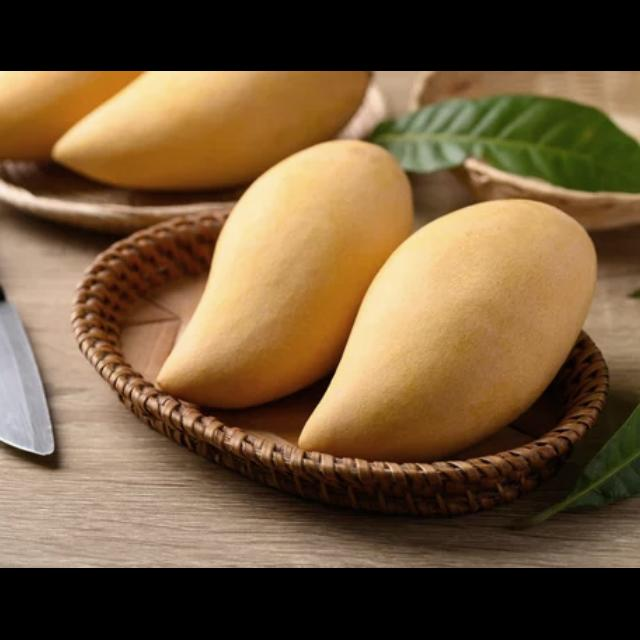mango: (298, 198, 595, 457), (162, 141, 417, 401)
